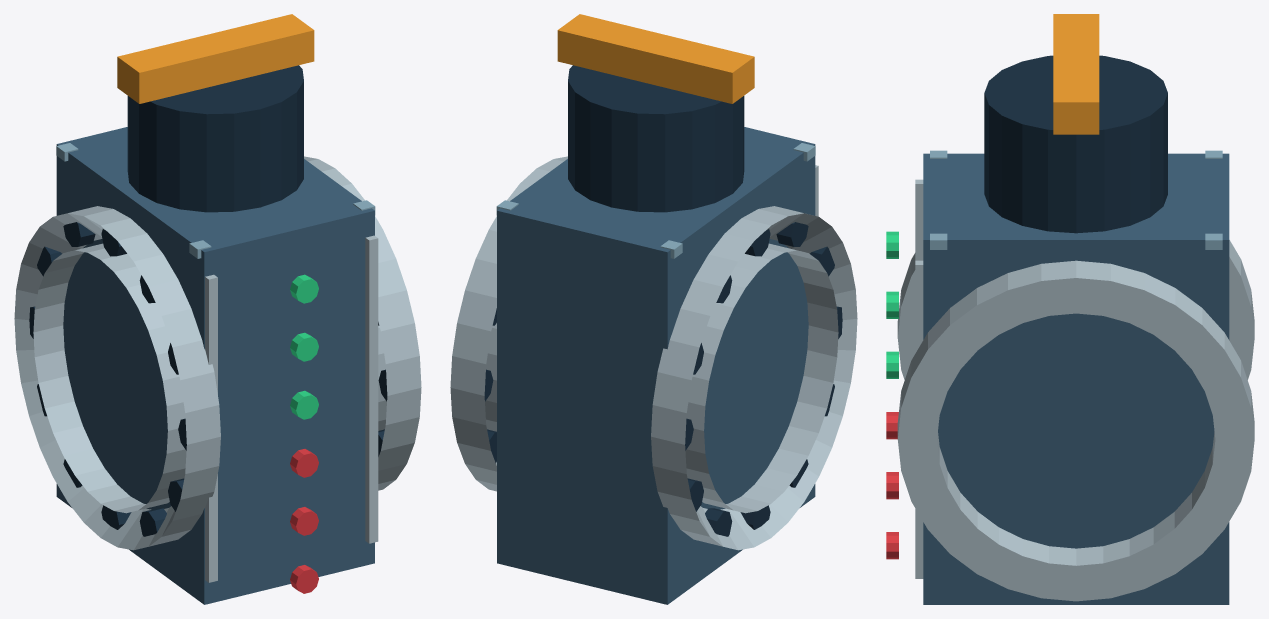
The model's file is 27_L72_AutomaticVacuumThrottleValve.fbx.
3 views of the same model, side by side, from view 1: azimuth 30°, elevation 25°; view 2: azimuth 150°, elevation 25°; view 3: azimuth 270°, elevation 25° (orthographic). The views are drawn at different scales.
Visible parts, largest first — view 1: AutomaticVacuumThrottleValve; view 2: AutomaticVacuumThrottleValve; view 3: AutomaticVacuumThrottleValve.
Part boxes in pixels (x1,y1,x2,y2): AutomaticVacuumThrottleValve: (14,14,421,604); AutomaticVacuumThrottleValve: (450,14,857,604); AutomaticVacuumThrottleValve: (886,14,1254,604).
Size of the model in its own units: 55 by 109 by 72.25.
